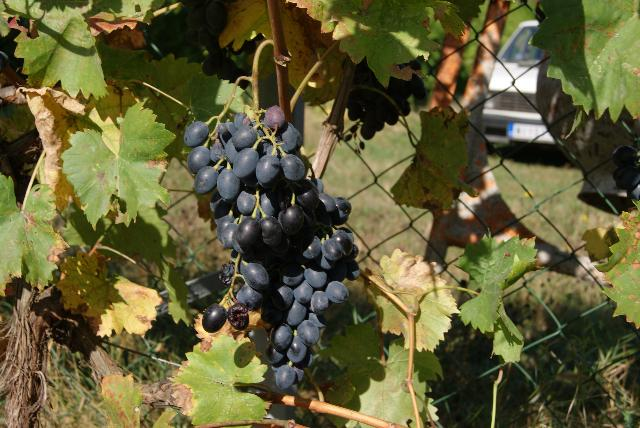grapes: (185, 105, 305, 332), (184, 106, 319, 256), (261, 192, 360, 389)
